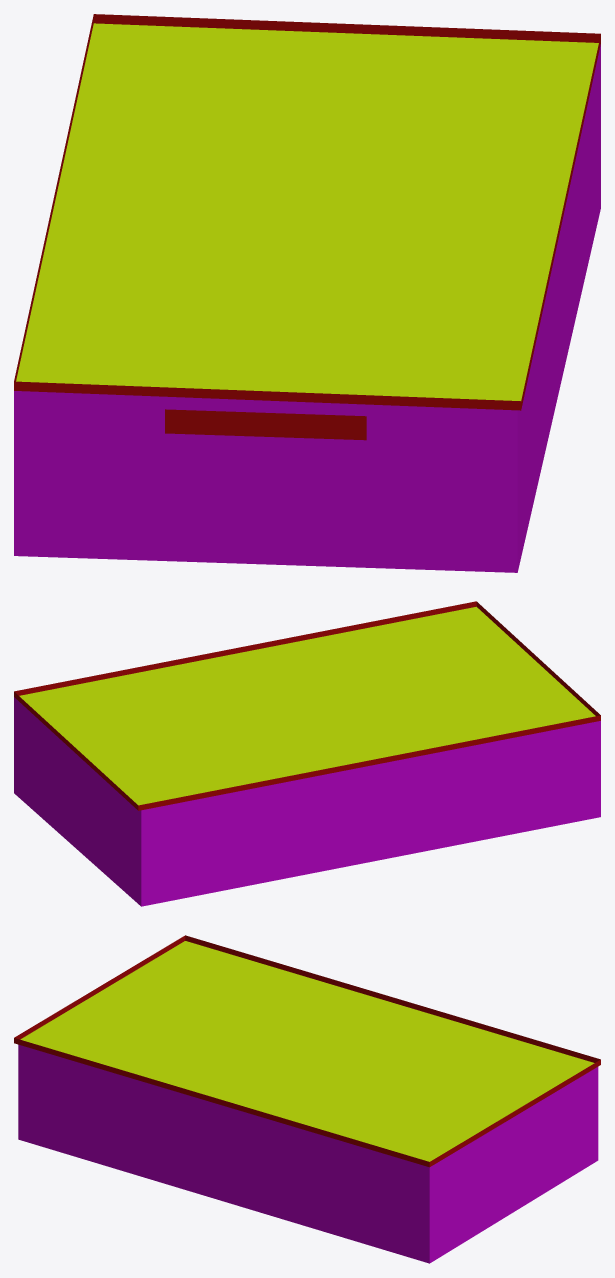
Rendered from bgj_181.glb.
3 views of the same model, one above another, from view 1: azimuth 30°, elevation 25°; view 2: azimuth 150°, elevation 25°; view 3: azimuth 270°, elevation 25° (orthographic). The views are drawn at different scales.
Parts seen in each view (by area): view 1: bgj_181; view 2: bgj_181; view 3: bgj_181.
Boxes of the visible parts, box(x1,y1,x2,y2) form: bgj_181: box(14, 14, 600, 572); bgj_181: box(14, 601, 600, 906); bgj_181: box(14, 935, 600, 1263).
Size of the model in its own units: 31.2 by 6.53 by 34.16.
